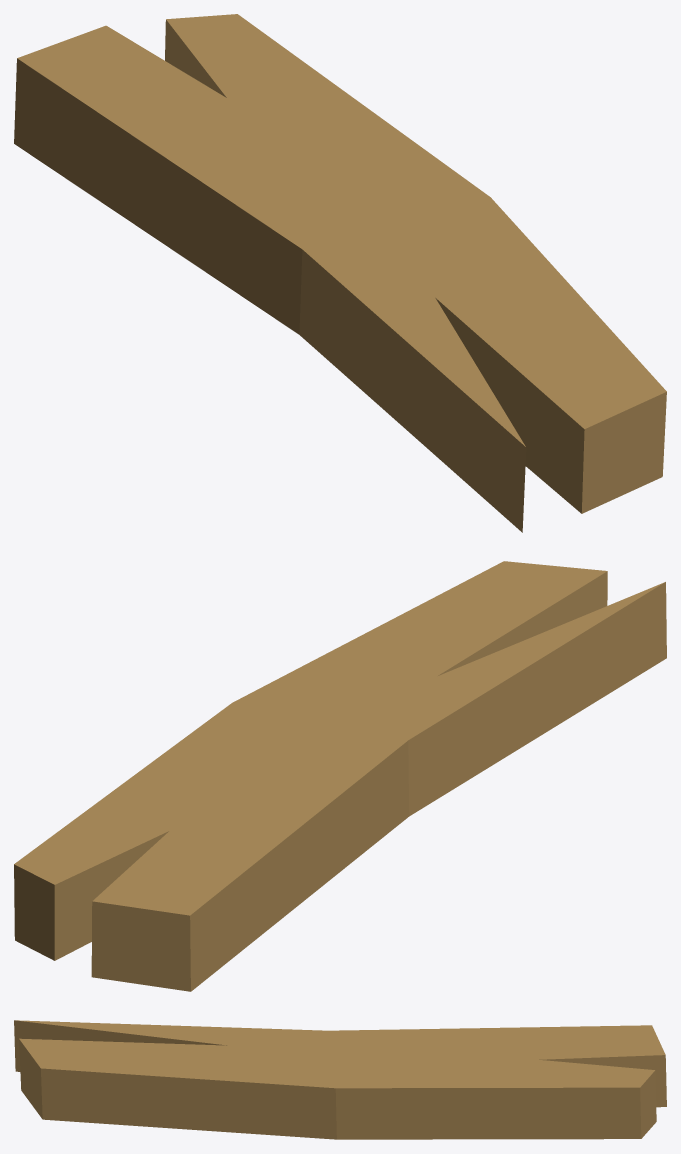
File: Wood_Plank.gltf
The picture shows the model from 3 angles, top to bottom: view 1: azimuth 30°, elevation 25°; view 2: azimuth 150°, elevation 25°; view 3: azimuth 270°, elevation 25°; orthographic projection. The views are drawn at different scales.
Parts seen in each view (by area): view 1: Wood_Plank2; view 2: Wood_Plank2; view 3: Wood_Plank2.
Boxes of the visible parts, x1,y1,x2,y2 form: Wood_Plank2: [14, 14, 666, 532]; Wood_Plank2: [14, 561, 666, 991]; Wood_Plank2: [14, 1020, 666, 1139].
Size of the model in its own units: 0.0629 by 0.0222 by 0.2528.
1 material, 1 textured.
